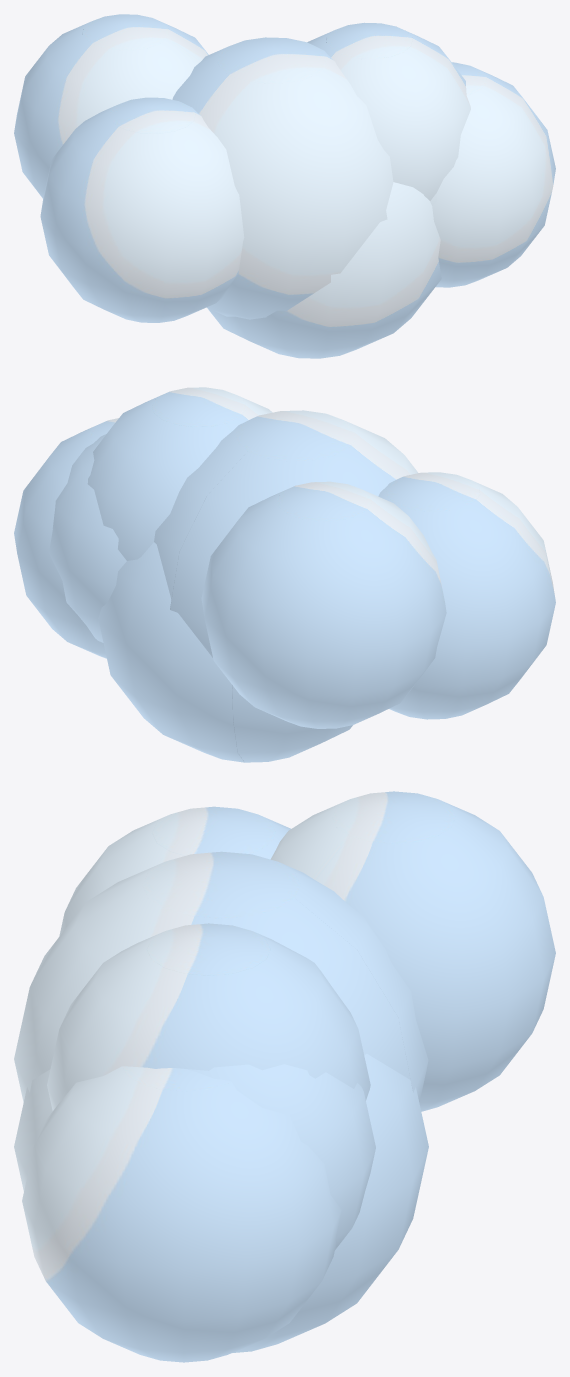
The model's file is cloud2.glb.
3 views of the same model, one above another, from view 1: azimuth 30°, elevation 25°; view 2: azimuth 150°, elevation 25°; view 3: azimuth 270°, elevation 25° (orthographic). The views are drawn at different scales.
Visible parts, largest first — view 1: Sphere_3; view 2: Sphere_3; view 3: Sphere_3.
Boxes of the visible parts, left/top/right/bottom form: Sphere_3: left=14, top=14, right=555, bottom=358; Sphere_3: left=14, top=387, right=555, bottom=762; Sphere_3: left=14, top=791, right=555, bottom=1362.
Bounding box in the file's own units: 97.35 × 60.03 × 66.95.
1 material, 1 textured.
